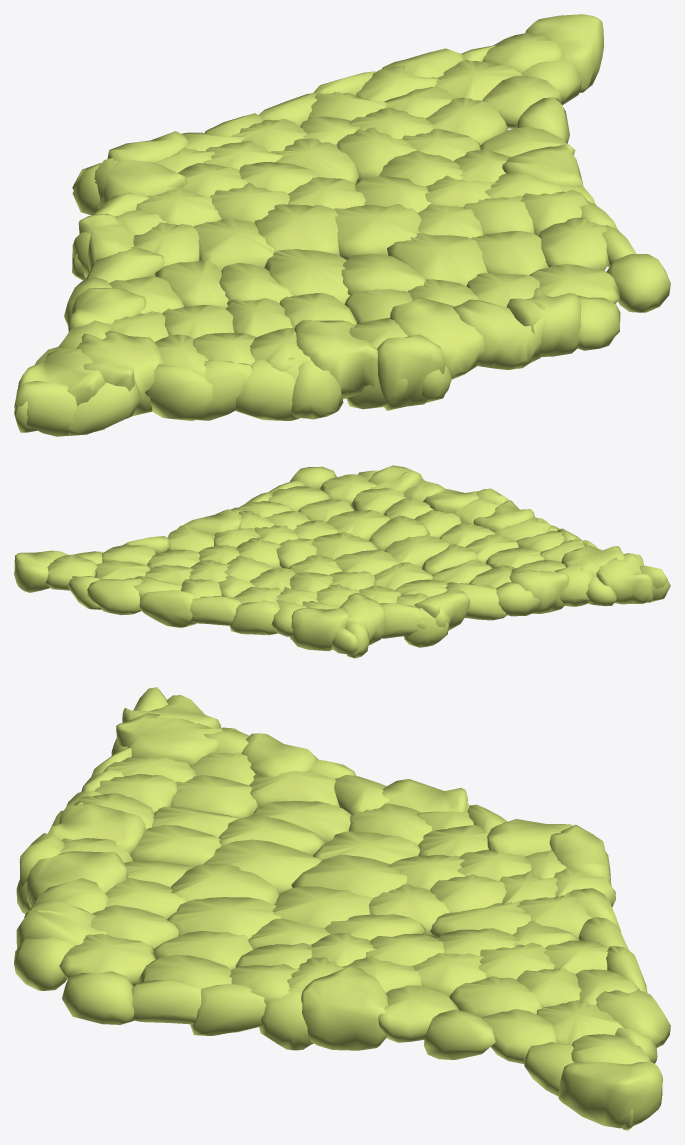
File: Islands4.002_fog.fbx
The picture shows the model from 3 angles, top to bottom: view 1: azimuth 30°, elevation 25°; view 2: azimuth 150°, elevation 25°; view 3: azimuth 270°, elevation 25°; orthographic projection. The views are drawn at different scales.
Parts seen in each view (by area): view 1: Island4.002_fog_cell.040, Island4.002_fog_cell.023, Island4.002_fog_cell.091, Island4.002_fog_cell.081, Island4.002_fog_cell.089, Island4.002_fog_cell.007, Island4.002_fog_cell.025, Island4.002_fog_cell.050, Island4.002_fog_cell.059, Island4.002_fog_cell.005, Island4.002_fog_cell.031, Island4.002_fog_cell.077 (+77 smaller); view 2: Island4.002_fog_cell.009, Island4.002_fog_cell.038, Island4.002_fog_cell.085, Island4.002_fog_cell.015, Island4.002_fog_cell.074, Island4.002_fog_cell.031, Island4.002_fog_cell.024, Island4.002_fog_cell.075, Island4.002_fog_cell.079, Island4.002_fog_cell.059, Island4.002_fog_cell.090, Island4.002_fog_cell.025 (+71 smaller); view 3: Island4.002_fog_cell.045, Island4.002_fog_cell.031, Island4.002_fog_cell.081, Island4.002_fog_cell.025, Island4.002_fog_cell.044, Island4.002_fog_cell.059, Island4.002_fog_cell.023, Island4.002_fog_cell.050, Island4.002_fog_cell.043, Island4.002_fog_cell.011, Island4.002_fog_cell.089, Island4.002_fog_cell.056 (+69 smaller).
Boxes of the visible parts, <box> form: Island4.002_fog_cell.040: <box>294,320,377,399</box>; Island4.002_fog_cell.023: <box>390,297,484,379</box>; Island4.002_fog_cell.091: <box>453,299,546,369</box>; Island4.002_fog_cell.081: <box>76,330,163,418</box>; Island4.002_fog_cell.089: <box>334,204,421,259</box>; Island4.002_fog_cell.007: <box>377,334,445,410</box>; Island4.002_fog_cell.025: <box>387,233,487,286</box>; Island4.002_fog_cell.050: <box>254,204,340,256</box>; Island4.002_fog_cell.059: <box>264,249,350,303</box>; Island4.002_fog_cell.005: <box>506,287,581,356</box>; Island4.002_fog_cell.031: <box>525,14,603,92</box>; Island4.002_fog_cell.077: <box>145,364,212,420</box>; Island4.002_fog_cell.009: <box>596,553,653,604</box>; Island4.002_fog_cell.038: <box>290,607,350,651</box>; Island4.002_fog_cell.085: <box>509,567,569,613</box>; Island4.002_fog_cell.015: <box>139,590,195,627</box>; Island4.002_fog_cell.074: <box>87,578,142,615</box>; Island4.002_fog_cell.031: <box>14,550,68,592</box>; Island4.002_fog_cell.024: <box>229,600,279,635</box>; Island4.002_fog_cell.075: <box>339,593,386,645</box>; Island4.002_fog_cell.079: <box>445,582,506,620</box>; Island4.002_fog_cell.059: <box>384,534,450,568</box>; Island4.002_fog_cell.090: <box>190,596,241,625</box>; Island4.002_fog_cell.025: <box>326,510,390,540</box>; Island4.002_fog_cell.045: <box>301,965,387,1050</box>; Island4.002_fog_cell.031: <box>558,1061,662,1128</box>; Island4.002_fog_cell.081: <box>116,713,222,765</box>; Island4.002_fog_cell.025: <box>167,897,280,938</box>; Island4.002_fog_cell.044: <box>62,971,134,1024</box>; Island4.002_fog_cell.059: <box>204,839,321,893</box>; Island4.002_fog_cell.023: <box>26,851,128,908</box>; Island4.002_fog_cell.050: <box>291,855,407,897</box>; Island4.002_fog_cell.043: <box>59,933,156,985</box>; Island4.002_fog_cell.011: <box>190,984,265,1035</box>; Island4.002_fog_cell.089: <box>272,886,373,928</box>; Island4.002_fog_cell.056: <box>378,985,459,1042</box>.
Size of the model in its own units: 138 by 11.63 by 95.04.
